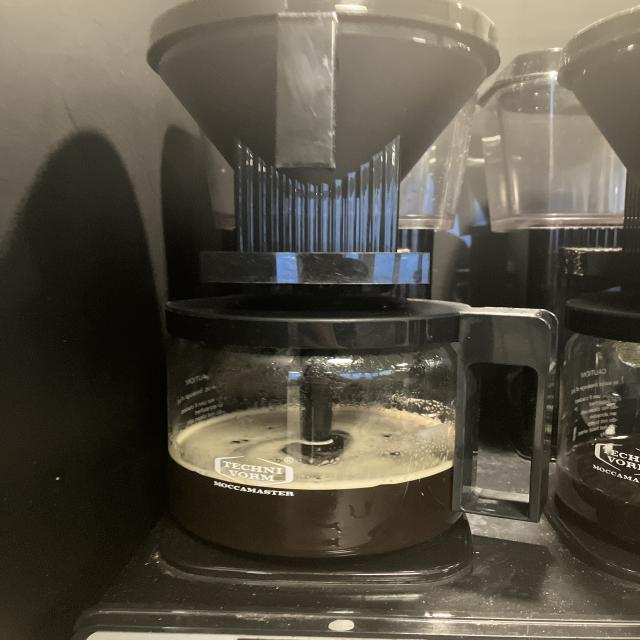coffee: (156, 295, 477, 560), (531, 298, 640, 584)
